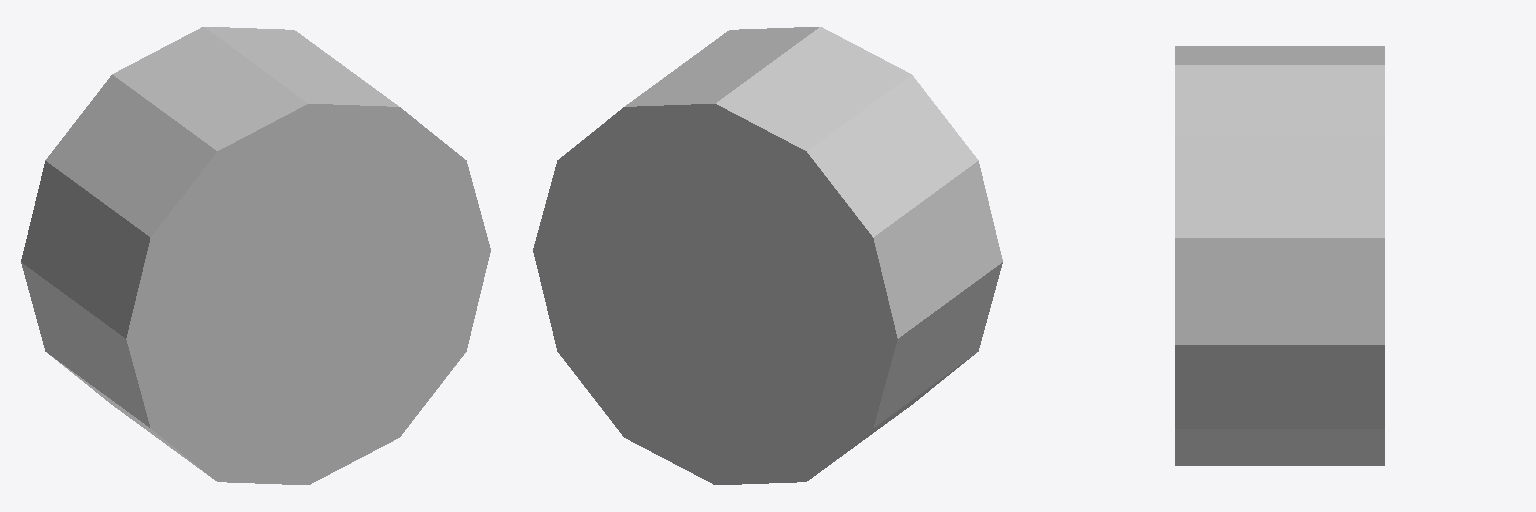
File: cylinderZ.obj
3 views of the same model, side by side, from view 1: azimuth 30°, elevation 25°; view 2: azimuth 150°, elevation 25°; view 3: azimuth 270°, elevation 25° (orthographic).
Size of the model in its own units: 2 by 2 by 1.